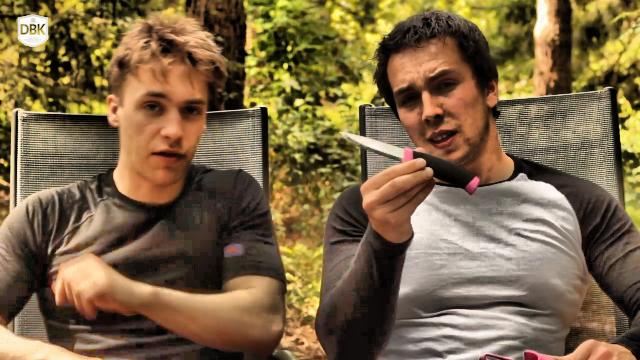knife: (332, 127, 486, 206)
